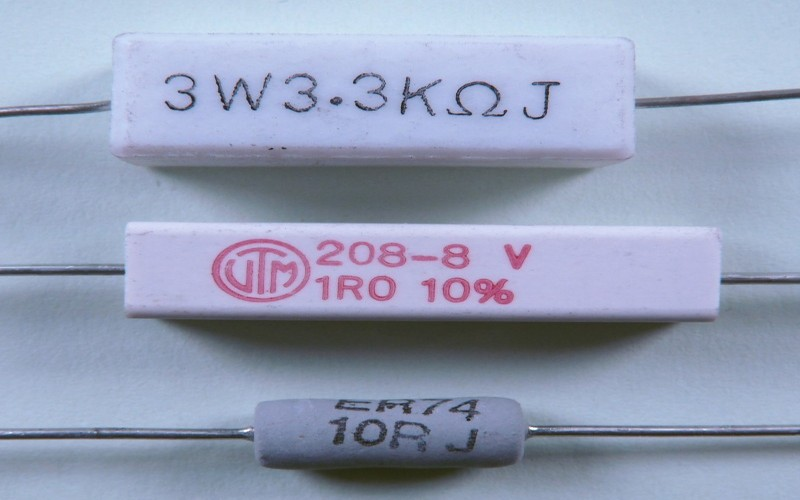Resistor: (87, 26, 734, 500)
